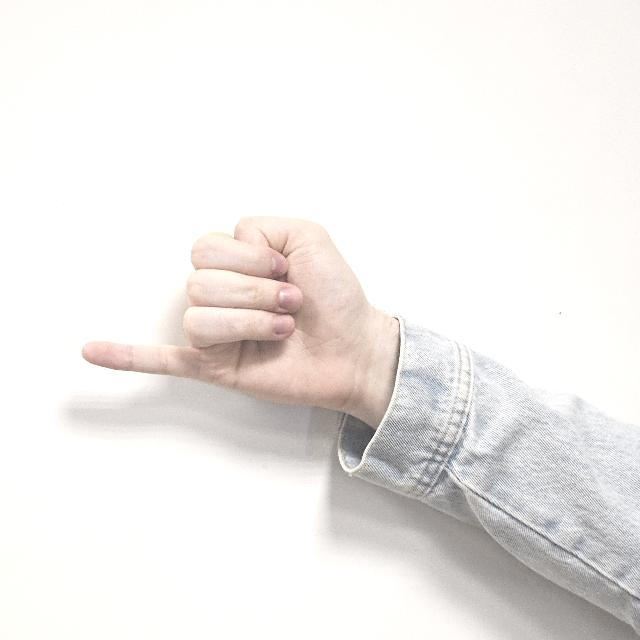Esquerda: (80, 194, 366, 418)
